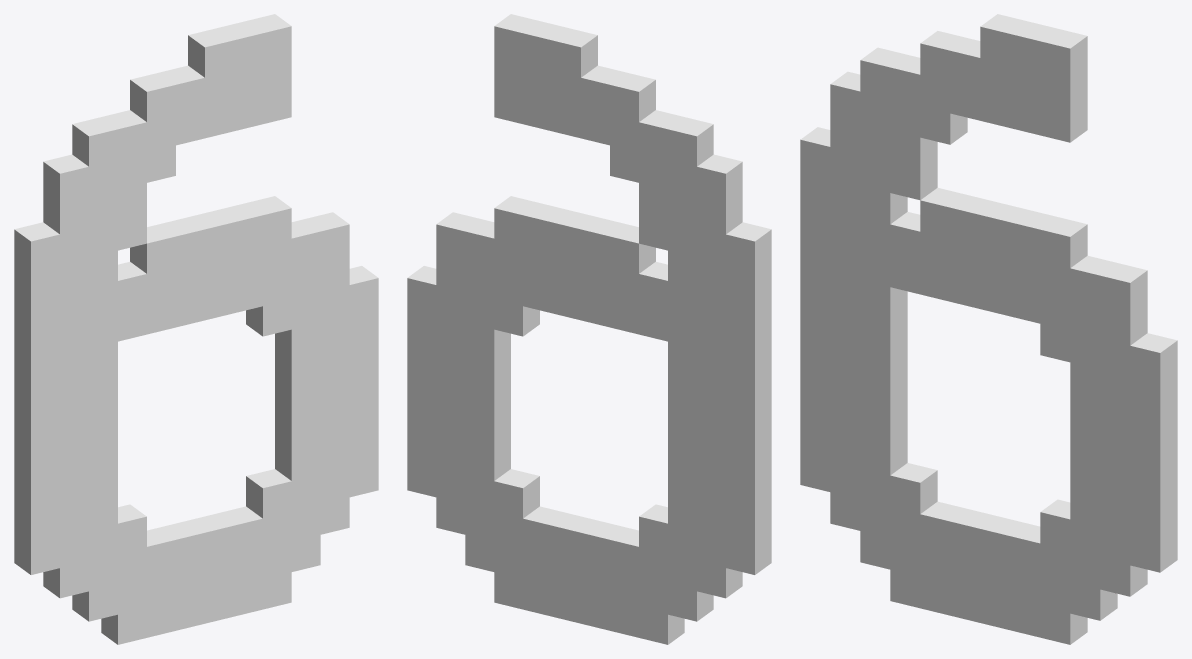
The picture shows the model from 3 angles, left to right: view 1: azimuth 30°, elevation 25°; view 2: azimuth 150°, elevation 25°; view 3: azimuth 330°, elevation 25°; orthographic projection. The views are drawn at different scales.
Parts seen in each view (by area): view 1: box_73; view 2: box_73; view 3: box_73.
Part boxes in pixels (x1,y1,x2,y2): box_73: (14, 14, 378, 644); box_73: (407, 14, 771, 644); box_73: (800, 14, 1177, 644).
Size of the model in its own units: 1.2 by 1.9 by 0.1.
Materials: 1 (1 with a texture image).
